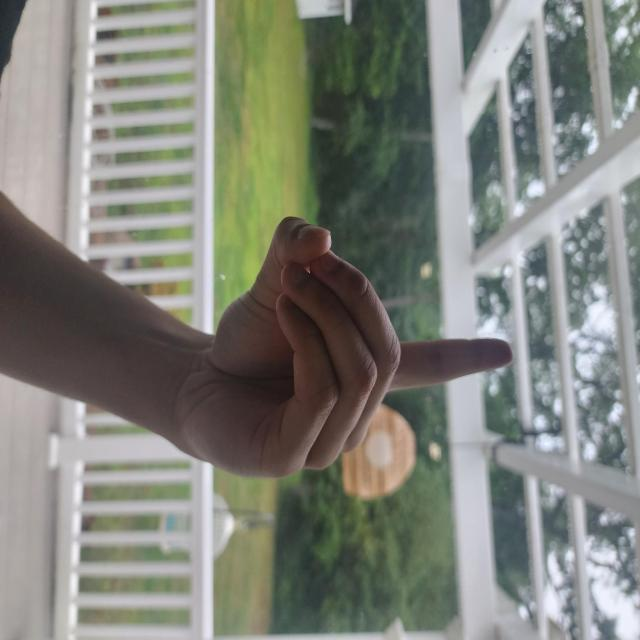D: (315, 165, 526, 632)
